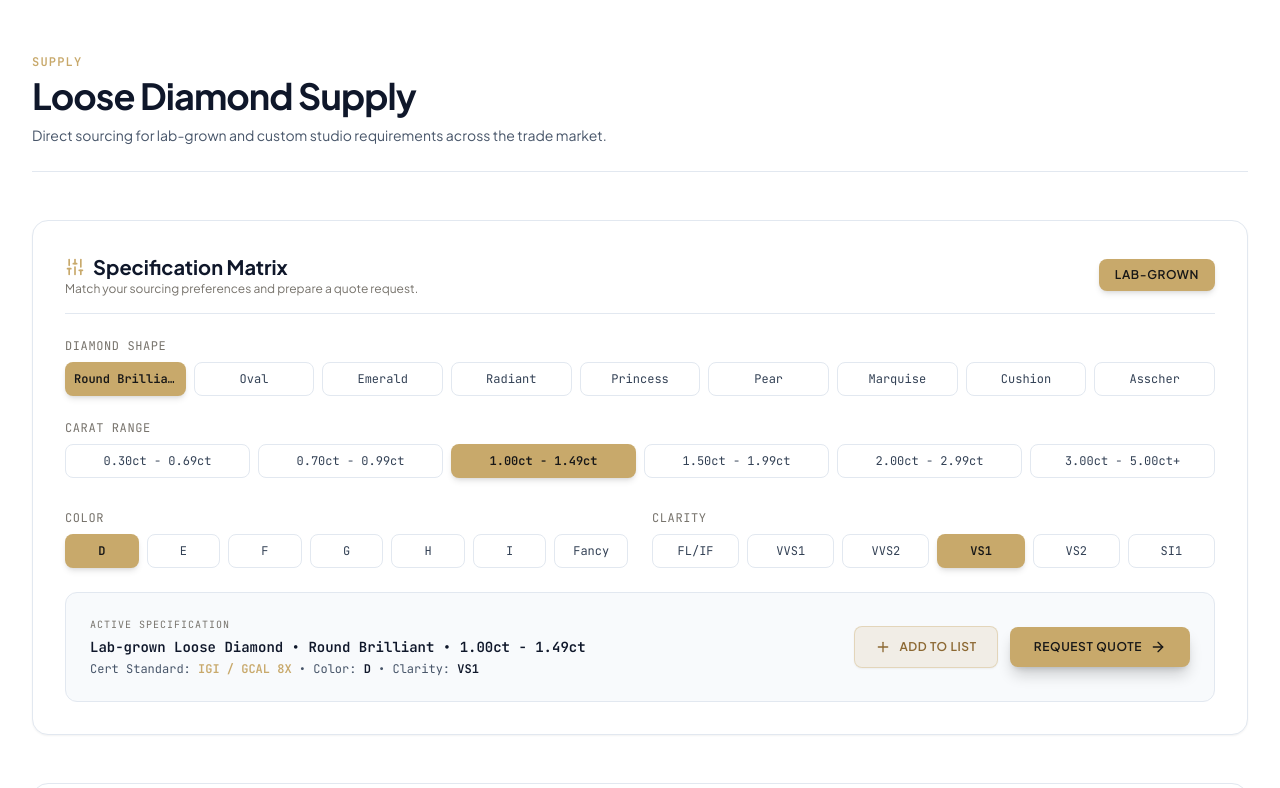
it: Loose Diamond Supply Matrix Component › should add a specification to the specification list when clicking "Add to list"
The width and height of the screenshot is (1280, 788).
Click the button "Add to list".
click(926, 647)  # box [854,626,998,668]
(page scrolled)
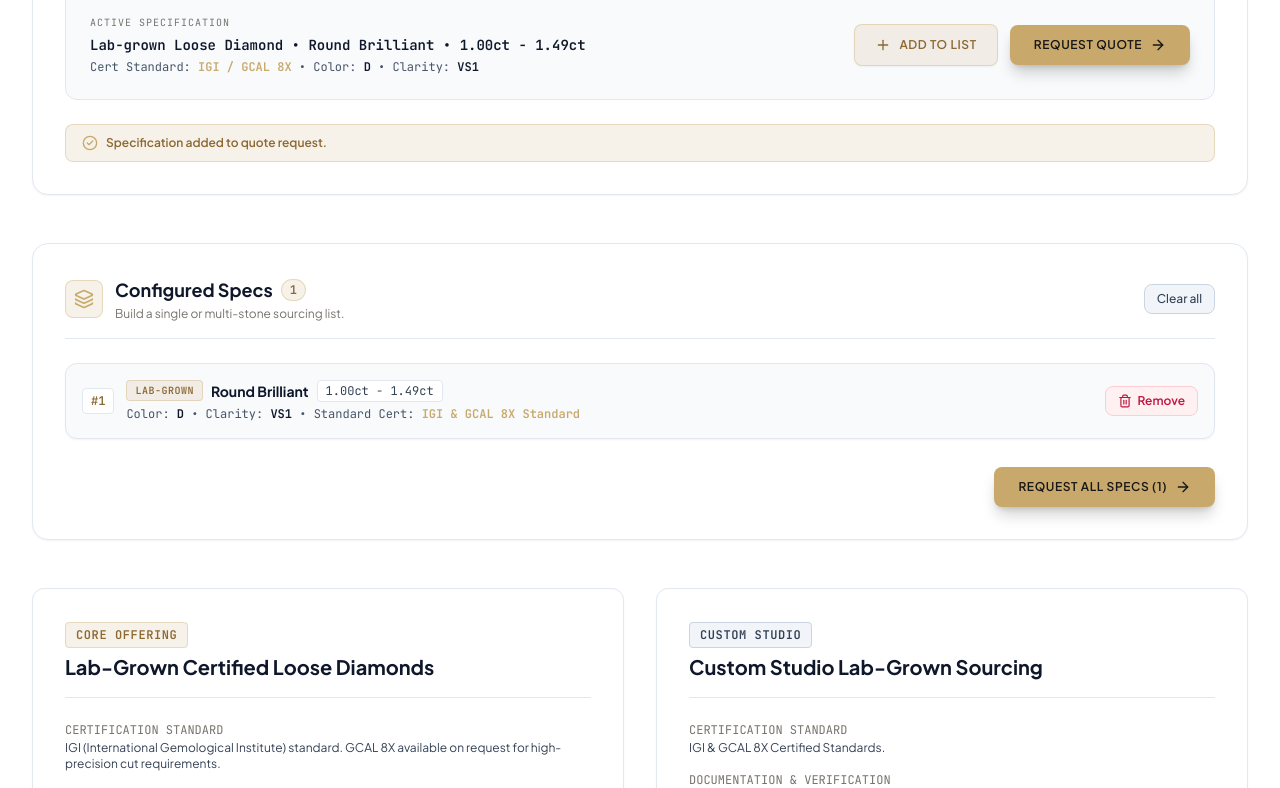
Expected: the text "Configured Specs" is shown, [115,276,273,304]
Expected: the text "Specification added to quote request." is shown, [106,135,327,151]
Expected: the text "#1" is shown, [82,388,114,414]
